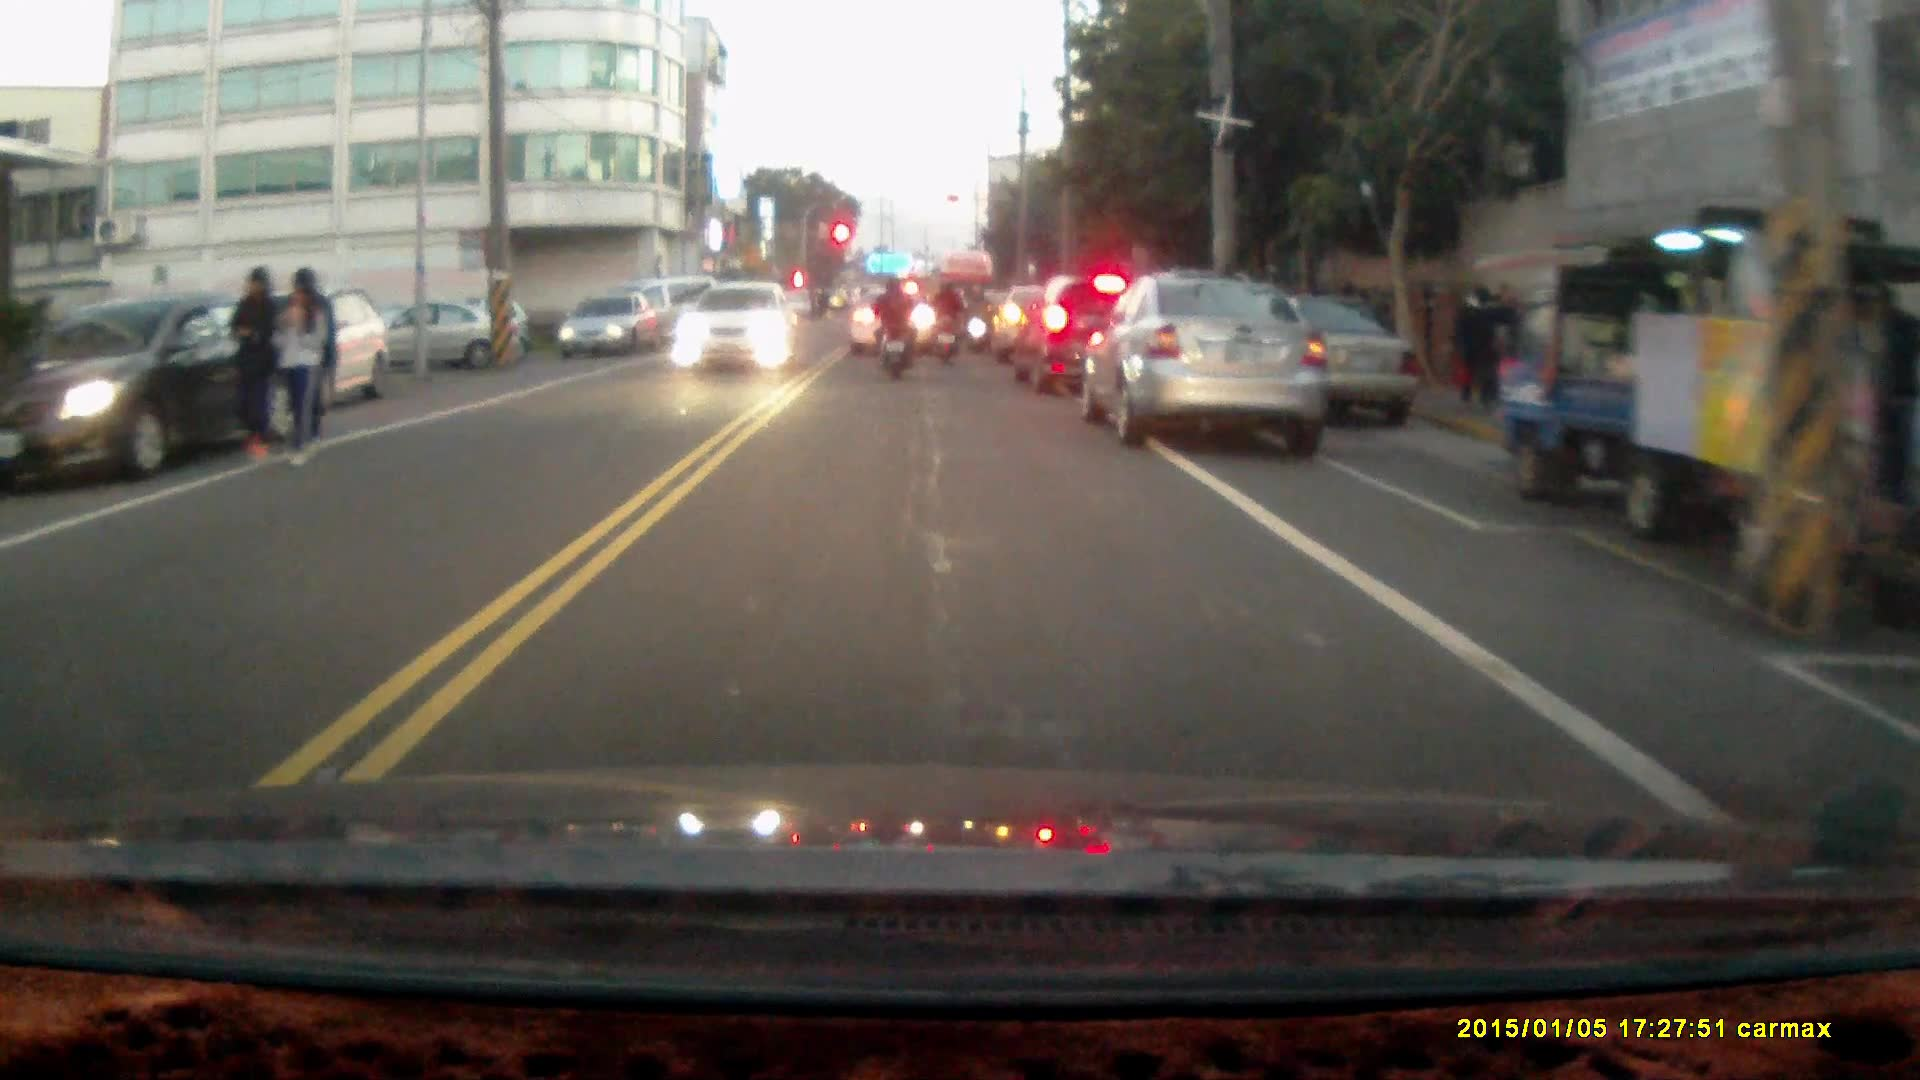pedestrian: (1865, 283, 1920, 508), (273, 266, 328, 467), (226, 265, 274, 467), (1458, 285, 1497, 411), (1487, 281, 1526, 403)
rider: (868, 275, 914, 383), (926, 275, 966, 363)
vehicle: (1482, 218, 1910, 537), (2, 297, 289, 494), (1091, 277, 1328, 452), (211, 290, 389, 425), (1019, 279, 1173, 401), (671, 284, 796, 376), (555, 294, 652, 363), (850, 293, 940, 361)
